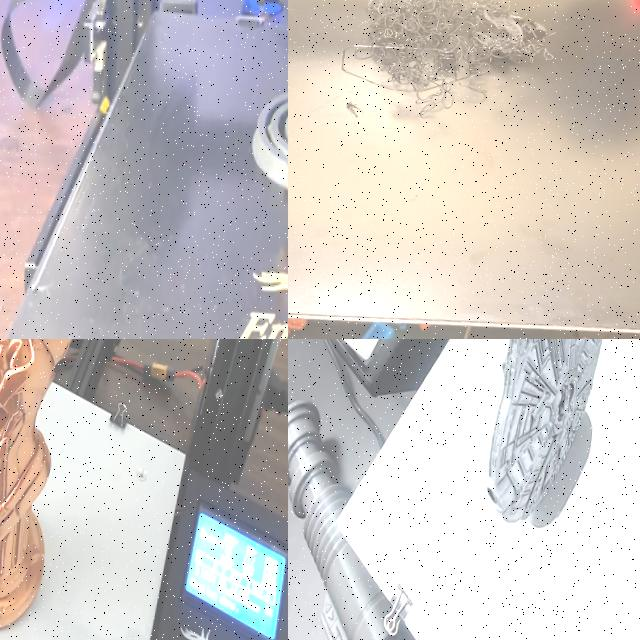spaghetti: (341, 0, 555, 120), (328, 96, 372, 125)
